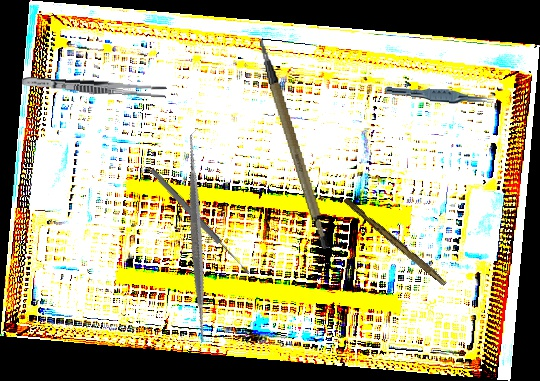Dressing Forceps: (21, 74, 167, 99)
Scalpel Handle: (257, 32, 333, 254), (341, 196, 450, 287)
Spatula Surgical: (83, 124, 311, 352)
Surgical Spoon: (148, 167, 252, 277)
Tissue Forceps: (384, 86, 495, 106)
